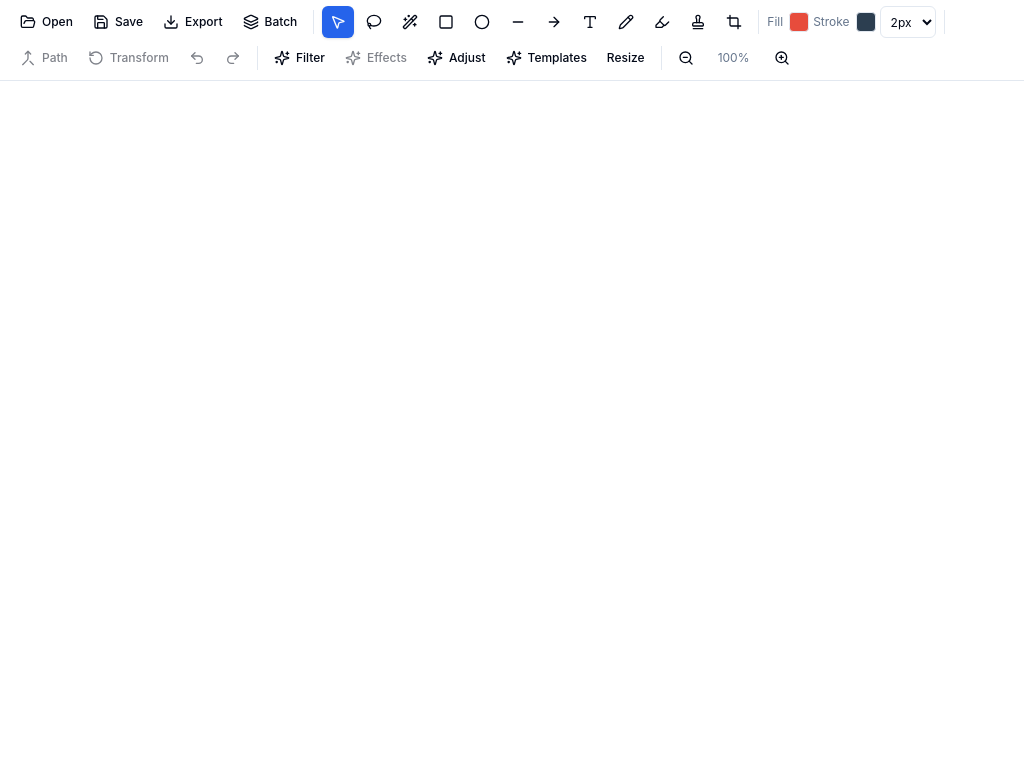
Test case: Export dialog › opens when Export button is clicked and image is loaded
Click the button "Export" at [193, 22], box [155,6,230,38]
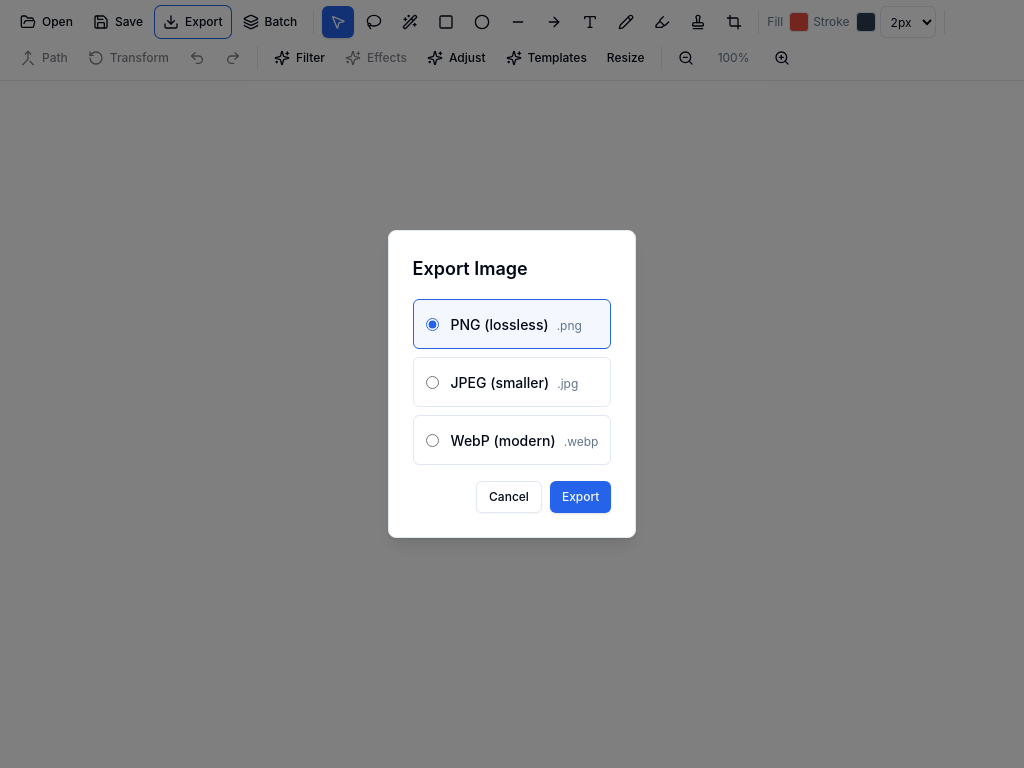
Expected: the heading "Export Image" is shown, [412,258,528,279]
Expected: the text "PNG (lossless)" is shown, [450,316,549,333]
Expected: the text "JPEG (smaller)" is shown, [450,374,549,391]
